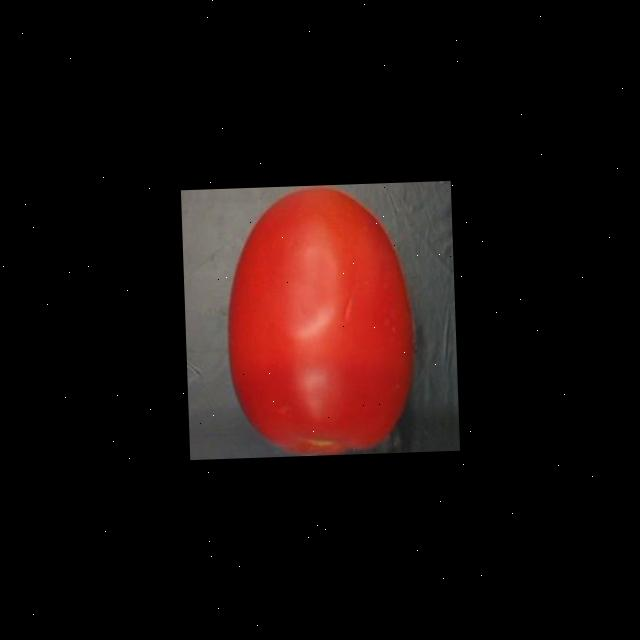tomato: (217, 182, 423, 456)
